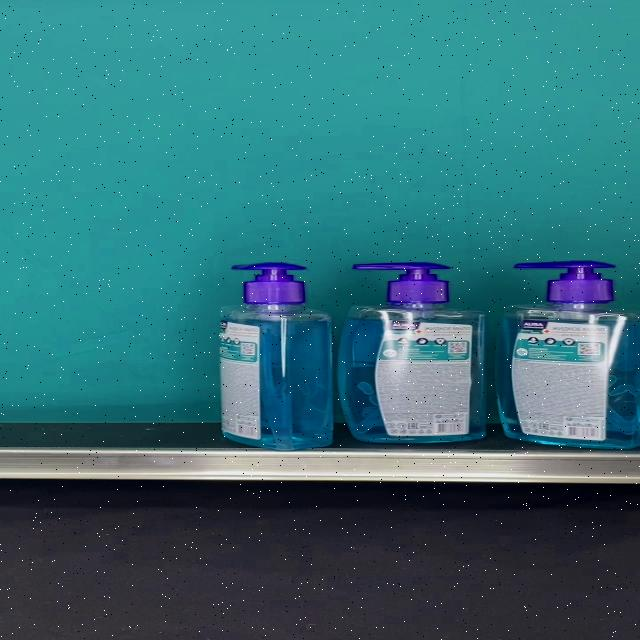Bottle: (498, 261, 640, 450), (340, 263, 486, 443), (219, 262, 334, 451)
Cap: (515, 261, 615, 303), (352, 262, 450, 304), (232, 262, 307, 304)
